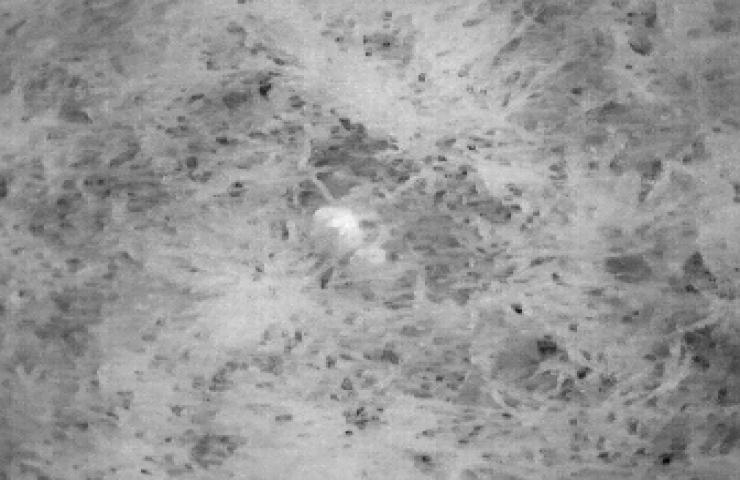landmines: (312, 203, 367, 248)
